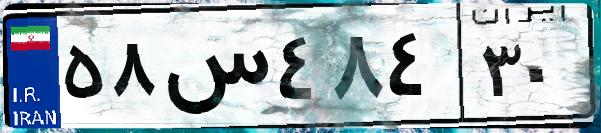0: (525, 38, 570, 115)
3: (475, 38, 525, 113)
4: (270, 28, 330, 110), (385, 28, 445, 110)
5: (57, 26, 110, 100)
8: (330, 28, 385, 110), (110, 28, 158, 98)
س: (158, 20, 270, 120)
